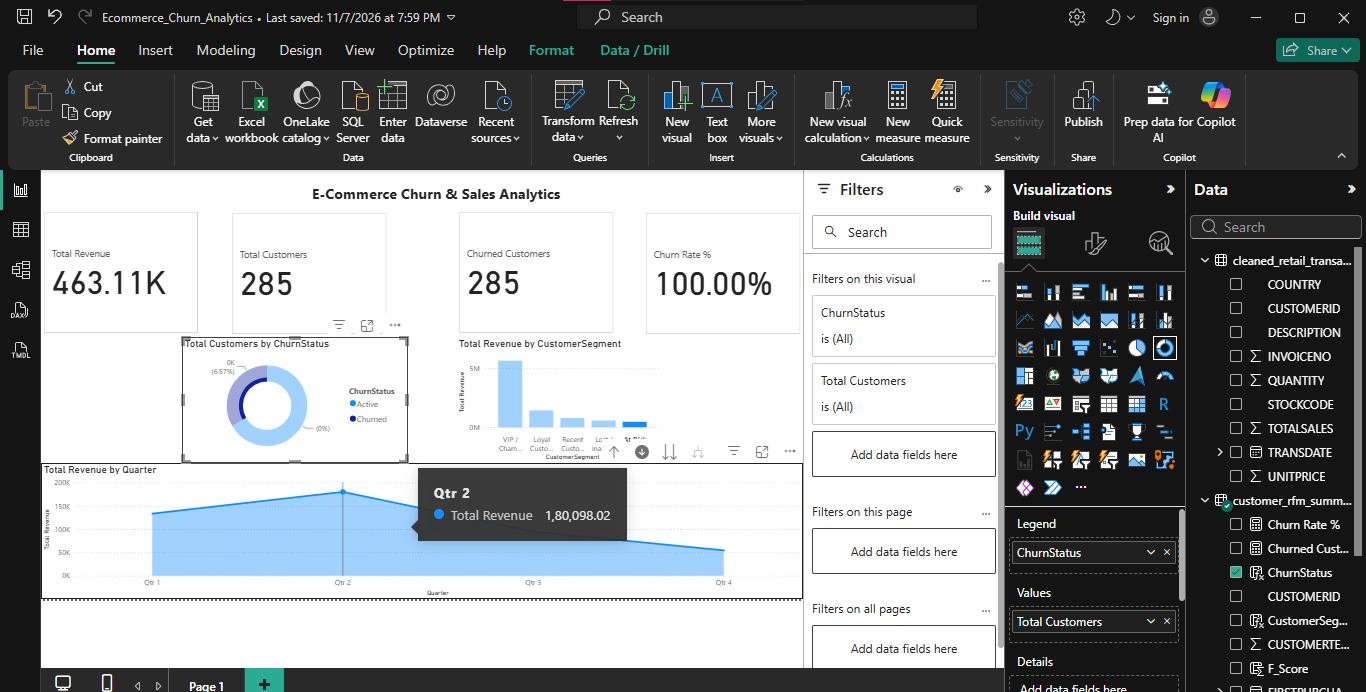

What the dashboard file says about the page in this screenshot:
{"tool":"powerbi","page":{"name":"Page 1","canvas":[1280,720],"ordinal":0},"visuals":[{"type":"cardVisual","fields":{"Data":["customer_rfm_summary.Total Revenue"]},"box":[0,65.5,268.8,213.3],"z":0},{"type":"cardVisual","fields":{"Data":["customer_rfm_summary.Total Customers"]},"box":[315.8,67.2,269,213],"z":1000},{"type":"cardVisual","fields":{"Data":["customer_rfm_summary.Churned Customers"]},"box":[697.1,65.5,269,213],"z":2000},{"type":"cardVisual","fields":{"Data":["customer_rfm_summary.Churn Rate %"]},"box":[1011.2,67.2,269,213],"z":3000},{"type":"donutChart","fields":{"Category":["customer_rfm_summary.ChurnStatus"],"Y":["customer_rfm_summary.Total Customers"]},"box":[236.9,280.5,379.6,211.7],"z":3001},{"type":"clusteredColumnChart","fields":{"Category":["customer_rfm_summary.CustomerSegment"],"Y":["customer_rfm_summary.Total Revenue"]},"box":[697.1,280.5,347.7,211.7],"z":3002},{"type":"areaChart","fields":{"Category":["cleaned_retail_transactions.TRANSDATE.Variation.Date Hierarchy.Year","cleaned_retail_transactions.TRANSDATE.Variation.Date Hierarchy.Quarter","cleaned_retail_transactions.TRANSDATE.Variation.Date Hierarchy.Month","cleaned_retail_transactions.TRANSDATE.Variation.Date Hierarchy.Day"],"Y":["customer_rfm_summary.Total Revenue"]},"box":[0,492.2,1280,228.5],"z":3003},{"type":"textbox","box":[450.2,18.5,811.3,48.7],"z":3004}]}

Visuals, with their boxes on the page's 1280x720 design canvas (x1, y1, x2, y2). These are canvas units, not pixel positions in the 1366x692 screenshot, which may show the page scaled, cropped or inside an application window:
cardVisual - customer_rfm_summary.Total Revenue: (0, 66, 269, 279)
cardVisual - customer_rfm_summary.Total Customers: (316, 67, 585, 280)
cardVisual - customer_rfm_summary.Churned Customers: (697, 66, 966, 278)
cardVisual - customer_rfm_summary.Churn Rate %: (1011, 67, 1280, 280)
donutChart - customer_rfm_summary.ChurnStatus x customer_rfm_summary.Total Customers: (237, 280, 616, 492)
clusteredColumnChart - customer_rfm_summary.CustomerSegment x customer_rfm_summary.Total Revenue: (697, 280, 1045, 492)
areaChart - cleaned_retail_transactions.TRANSDATE.Variation.Date Hierarchy.Year x cleaned_retail_transactions.TRANSDATE.Variation.Date Hierarchy.Quarter: (0, 492, 1280, 721)
textbox: (450, 18, 1262, 67)
